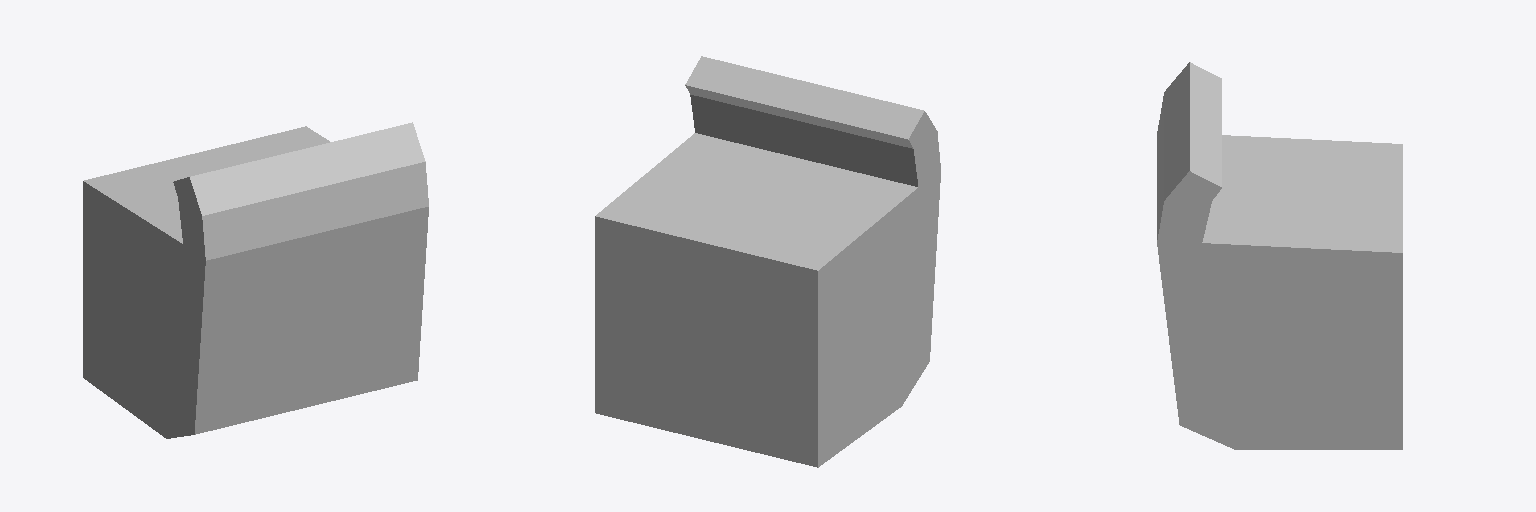
Rendered from Cool Hair.obj.
The picture shows the model from 3 angles: view 1: azimuth 30°, elevation 25°; view 2: azimuth 150°, elevation 25°; view 3: azimuth 270°, elevation 25°; orthographic projection.
Visible parts, largest first — view 1: Cool_Hair; view 2: Cool_Hair; view 3: Cool_Hair.
Boxes of the visible parts, <box> form: Cool_Hair: <box>83,122,428,438</box>; Cool_Hair: <box>595,56,940,467</box>; Cool_Hair: <box>1157,62,1402,449</box>.
Bounding box in the file's own units: 7.45 × 8.9 × 7.11.